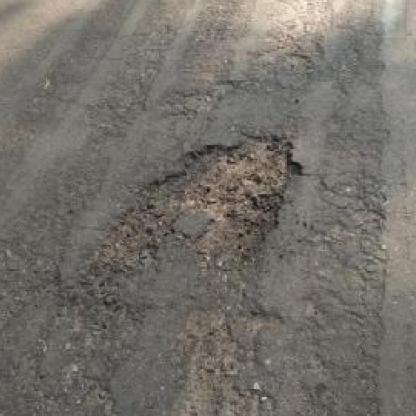pothole: (113, 131, 307, 267)
